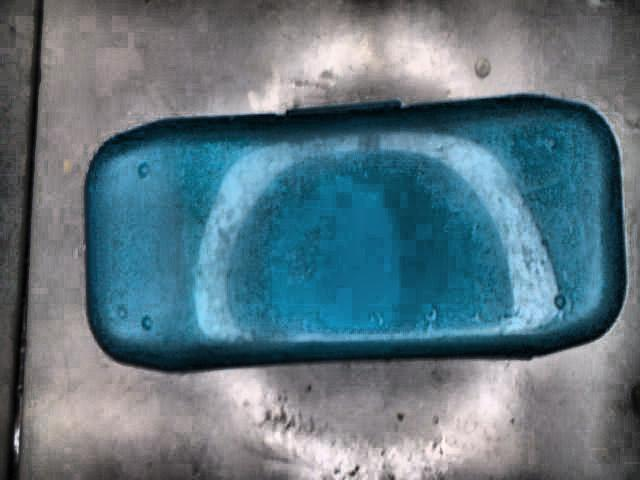Plastic: (84, 93, 626, 375)
